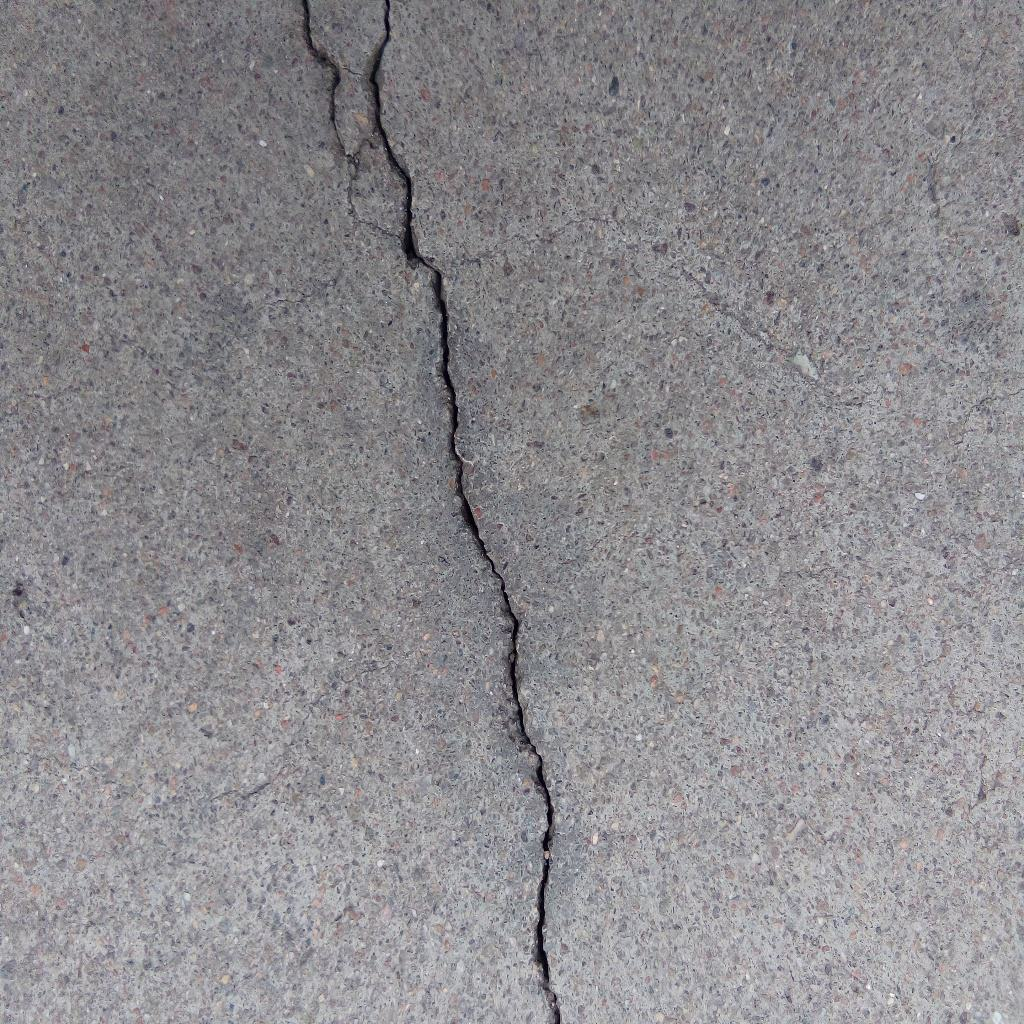Crack: (371, 1, 562, 1024), (304, 1, 405, 240)
